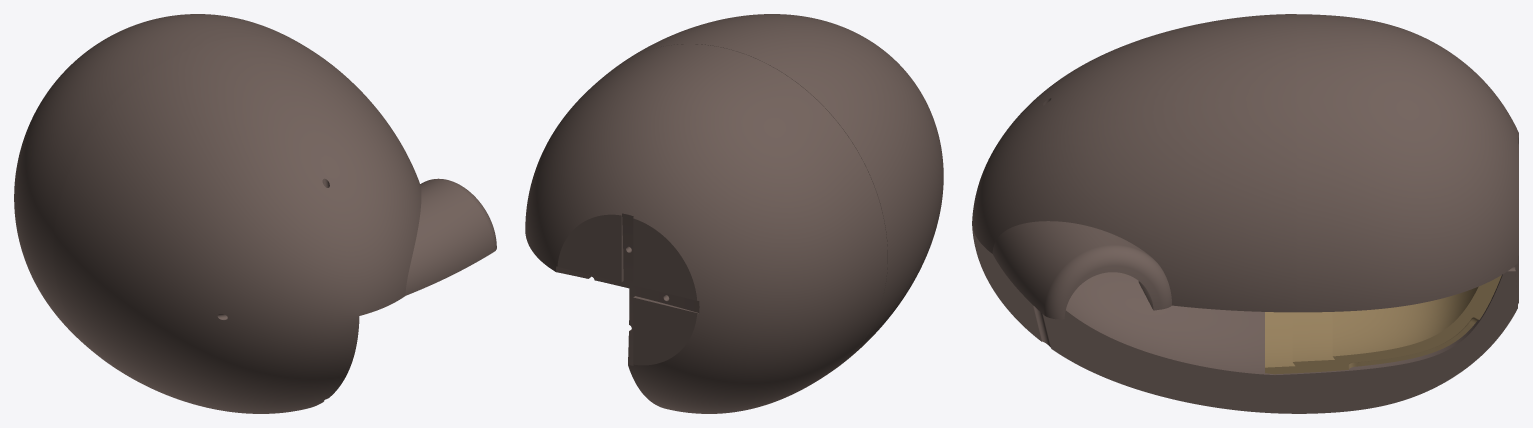
Rendered from TNE3QTR-v1.glb.
3 renders of one model, left to right at view 1: azimuth 30°, elevation 25°; view 2: azimuth 150°, elevation 25°; view 3: azimuth 270°, elevation 25°, orthographic. The views are drawn at different scales.
Parts seen in each view (by area): view 1: mesh_0, mesh_0_2; view 2: mesh_0_2, mesh_0; view 3: mesh_0, mesh_0_2, mesh_0_1.
Part boxes in pixels (x1=…): mesh_0: x1=53, y1=36, x2=496, y2=413; mesh_0_2: x1=14, y1=14, x2=319, y2=354; mesh_0_2: x1=525, y1=44, x2=887, y2=413; mesh_0: x1=622, y1=14, x2=943, y2=362; mesh_0: x1=972, y1=14, x2=1296, y2=413; mesh_0_2: x1=1274, y1=14, x2=1518, y2=413; mesh_0_1: x1=1265, y1=275, x2=1501, y2=374.
Size of the model in its own units: 7.19 by 6.91 by 9.01.
